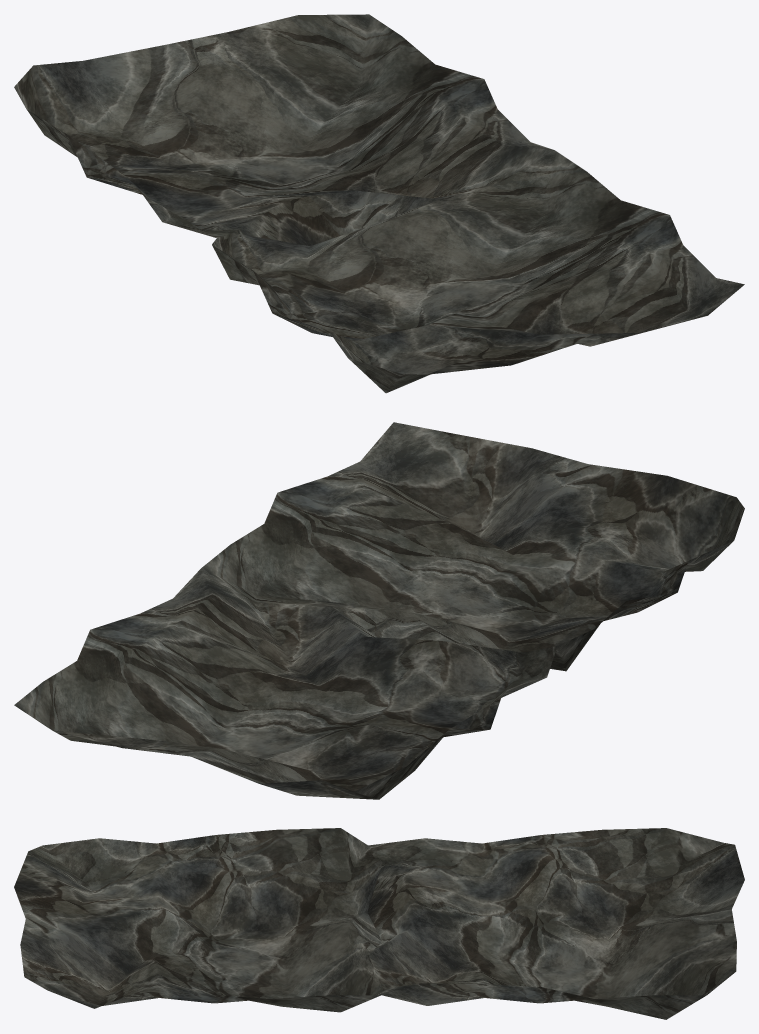
Rendered from Wall8x4.fbx.
3 renders of one model, top to bottom at view 1: azimuth 30°, elevation 25°; view 2: azimuth 150°, elevation 25°; view 3: azimuth 270°, elevation 25°, orthographic. The views are drawn at different scales.
Visible parts, largest first — view 1: Wall4x8; view 2: Wall4x8; view 3: Wall4x8.
Boxes of the visible parts, <box> form: Wall4x8: <box>14,14,744,393</box>; Wall4x8: <box>14,422,744,799</box>; Wall4x8: <box>14,828,744,1019</box>.
Size of the model in its own units: 4.94 by 0.9099 by 8.98.
